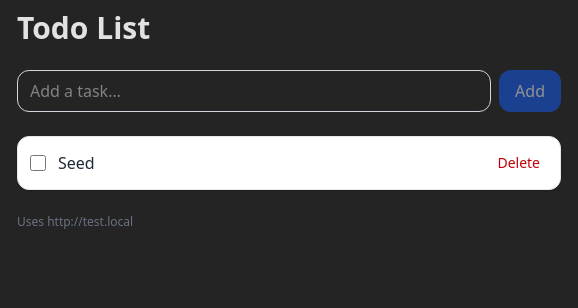
Test case: Todo app › loads, adds, toggles, and deletes todos
This screenshot has width=578, height=308.
Check: the text "Seed" is shown, box top-left (58, 151), bottom-right (95, 175)
Type "New Task" into the field named "new todo". click: (254, 91)
box: top-left (17, 70), bottom-right (491, 112)
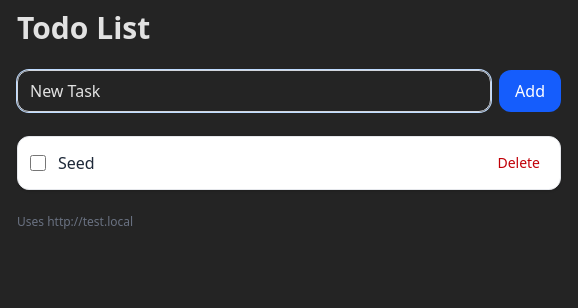
Click the button "Add". click: (530, 91)
box: top-left (499, 70), bottom-right (561, 112)
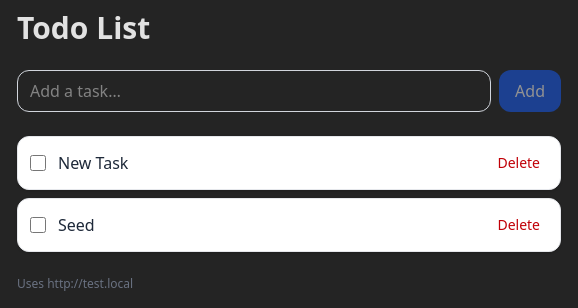
Check: the text "New Task" is shown, box top-left (58, 151), bottom-right (128, 175)
// toggle checkbox
Click the checkbox named "toggle seed". click: (38, 225)
box: top-left (30, 217), bottom-right (46, 233)
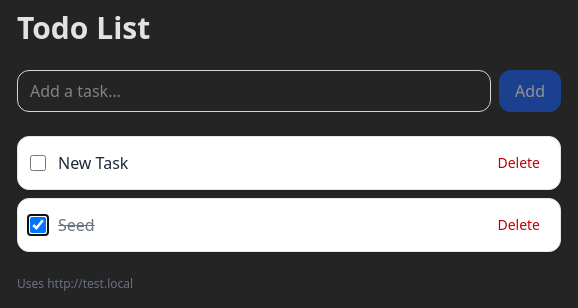
Click the button with aria-label "delete seed". click: (519, 225)
box: top-left (489, 211), bottom-right (548, 239)
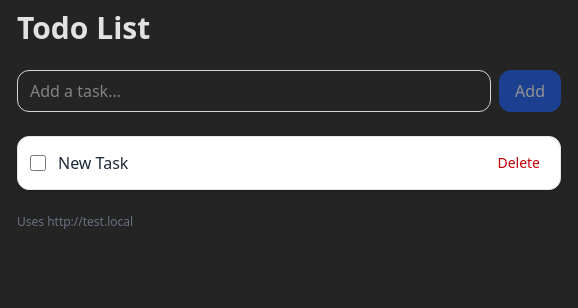
Check: the text "New Task" is shown, box top-left (58, 151), bottom-right (128, 175)
Check: the text "Seed" is gone
